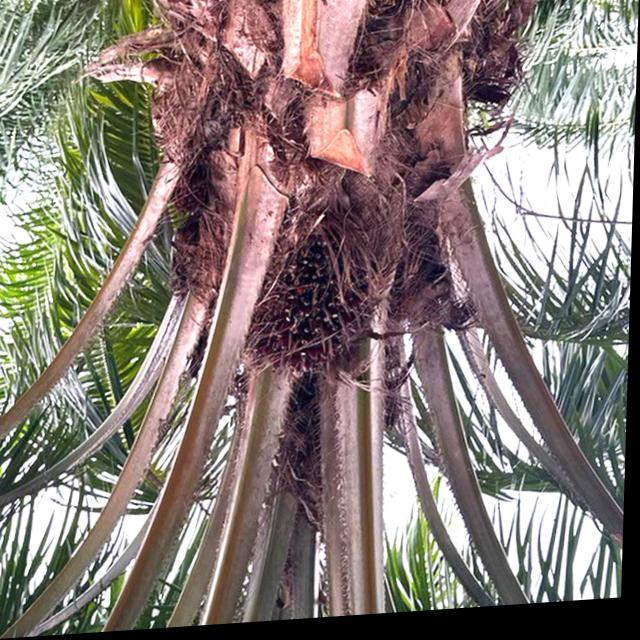ripe: (233, 219, 391, 401)
